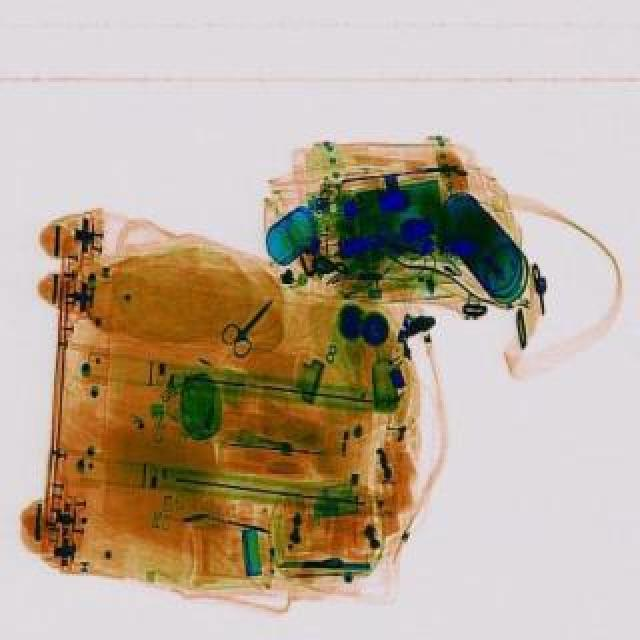pliers: (214, 288, 290, 358)
